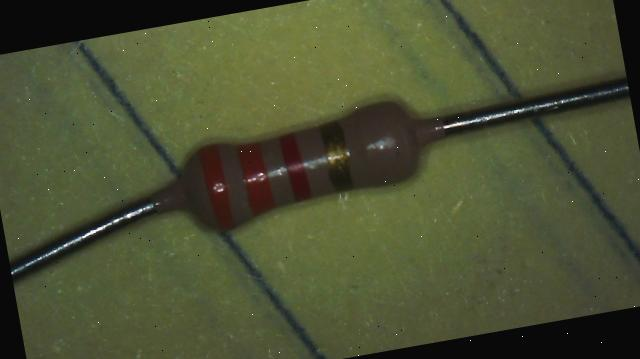gold: (319, 120, 354, 192)
orange: (198, 144, 236, 232), (237, 140, 276, 216)
red: (278, 131, 312, 201)
resistor: (146, 71, 444, 249)
